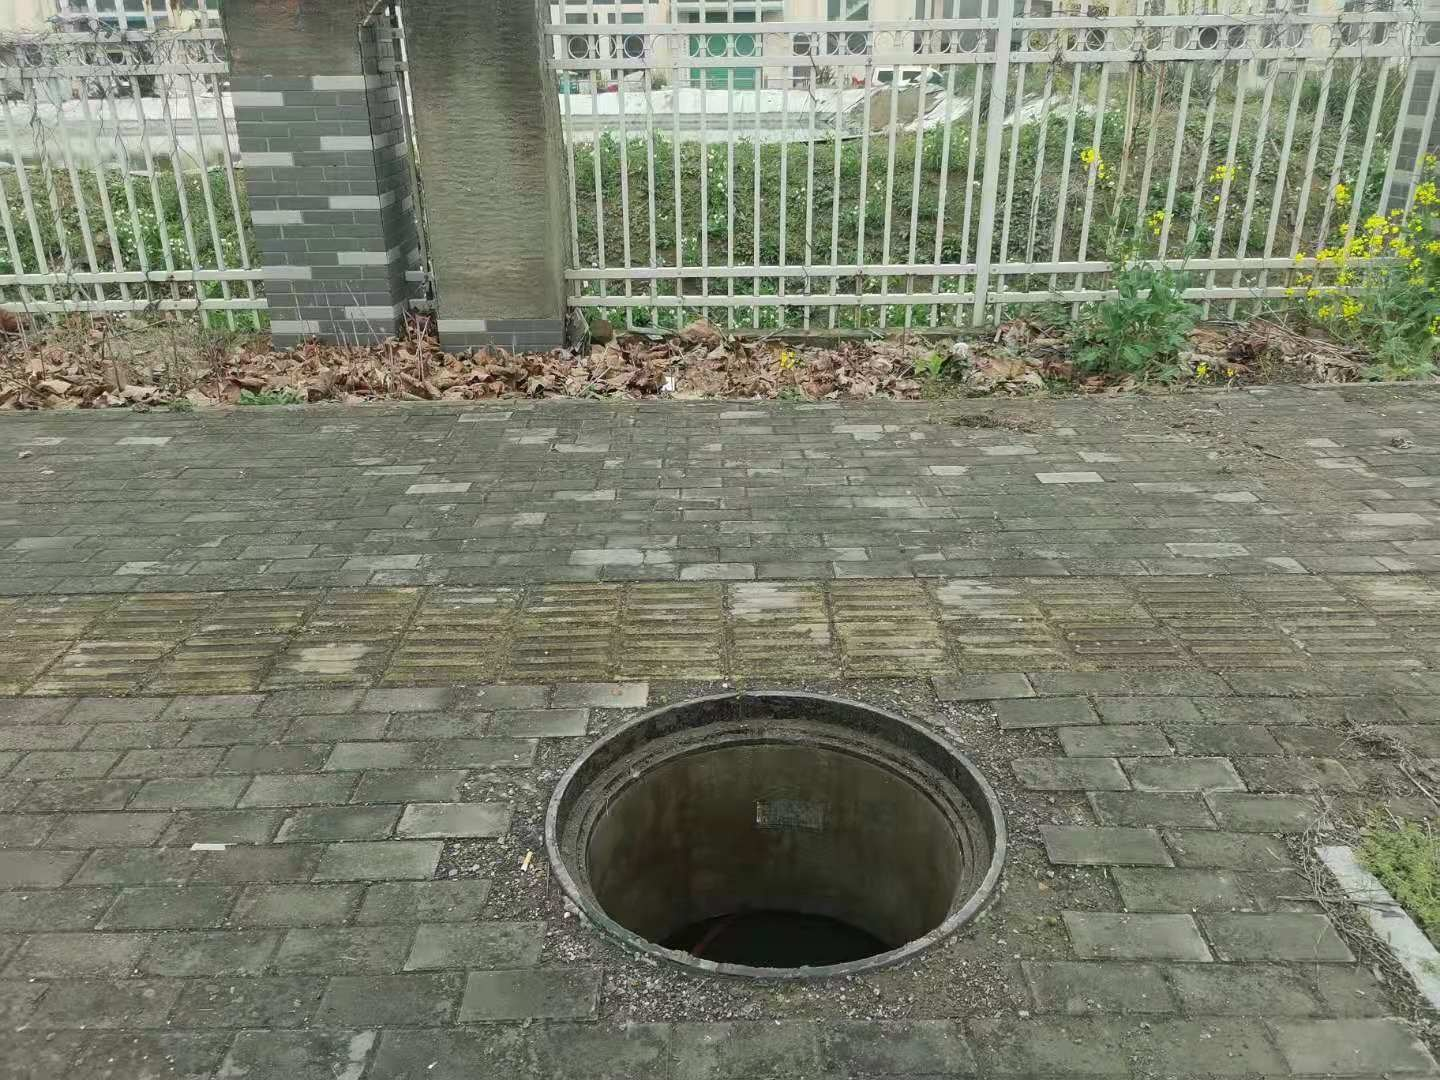lose: (547, 690, 1010, 980)
